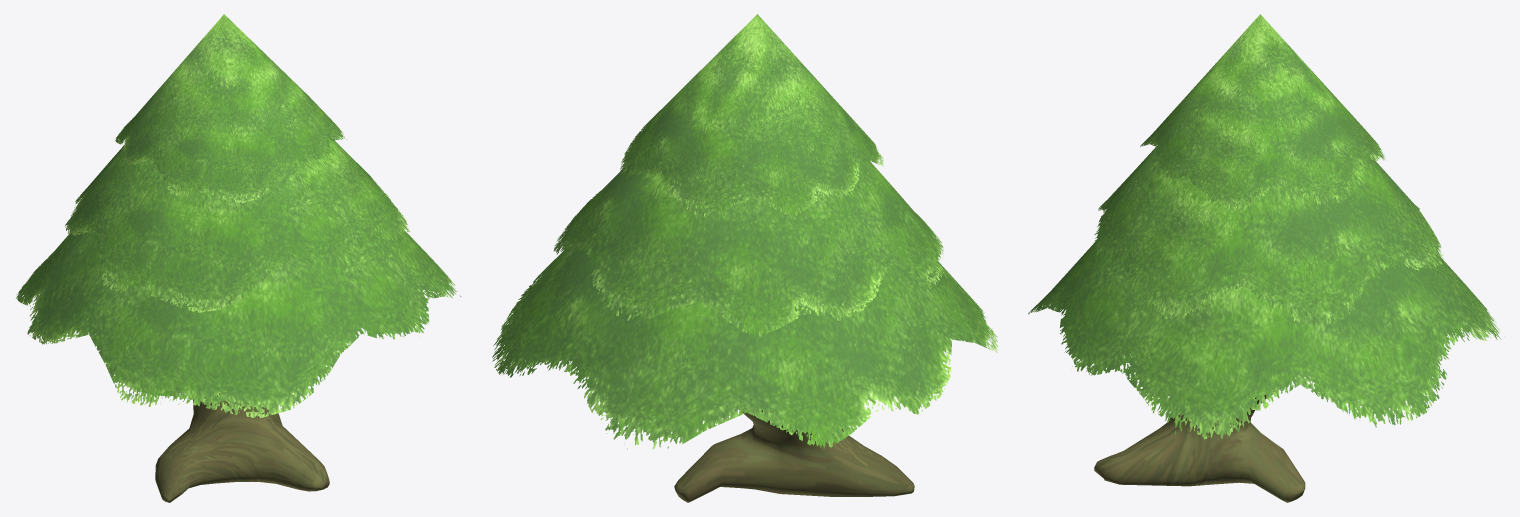
The model's file is treeanimated.fbx.
3 views of the same model, side by side, from view 1: azimuth 30°, elevation 25°; view 2: azimuth 150°, elevation 25°; view 3: azimuth 270°, elevation 25° (orthographic). The views are drawn at different scales.
Visible parts, largest first — view 1: pCone10, pCube1; view 2: pCone10, pCube1; view 3: pCone10, pCube1.
Part boxes in pixels (left/top/right/bottom): pCone10: left=16, top=14, right=460, bottom=417; pCube1: left=155, top=393, right=329, bottom=502; pCone10: left=492, top=14, right=998, bottom=449; pCube1: left=674, top=409, right=914, bottom=502; pCone10: left=1028, top=14, right=1501, bottom=439; pCube1: left=1094, top=391, right=1305, bottom=502.
Size of the model in its own units: 7.63 by 8.37 by 7.87.
